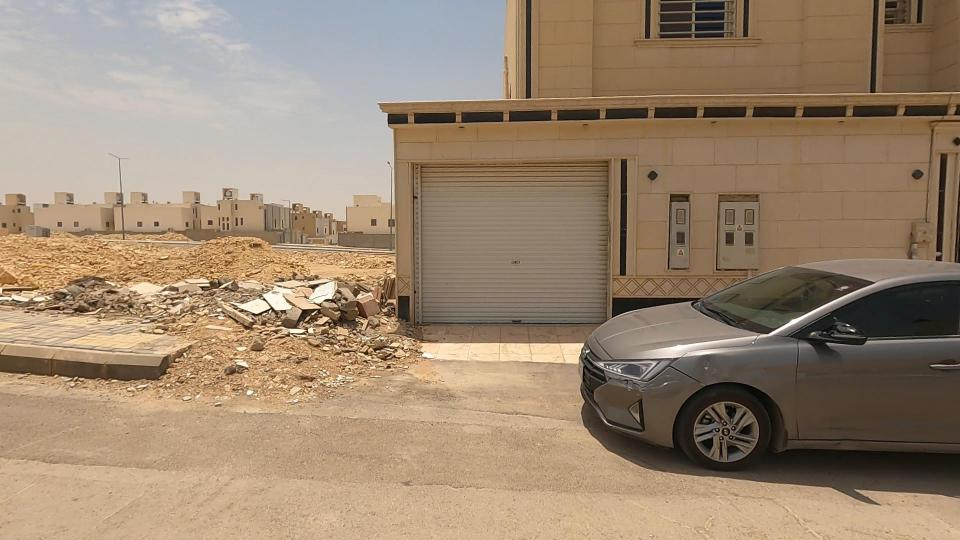GARBAGE: (163, 229, 421, 383), (85, 234, 267, 365), (199, 332, 280, 415)
